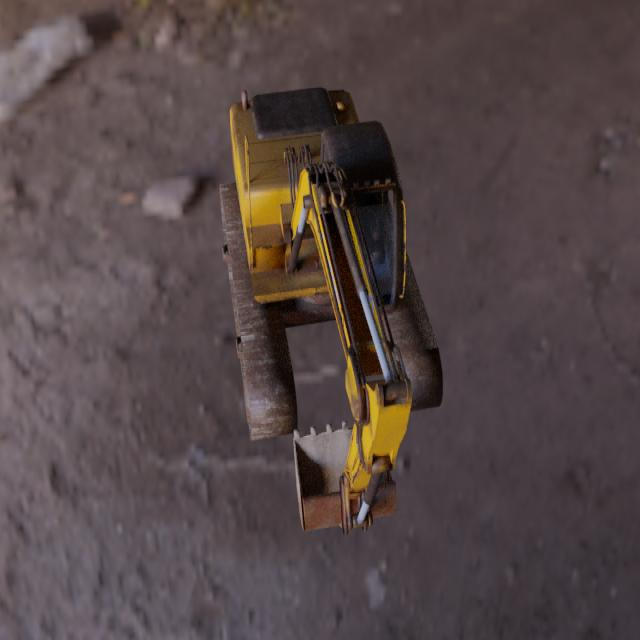excavator: (219, 85, 443, 535)
